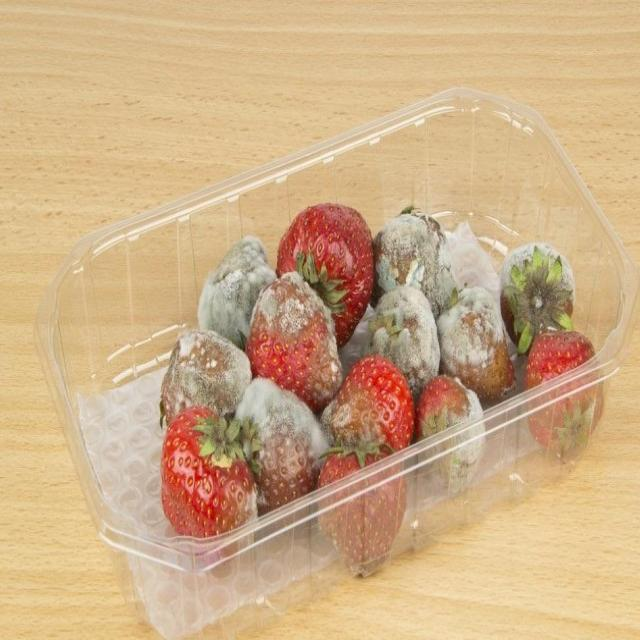Wet Waste: (158, 198, 604, 578)
